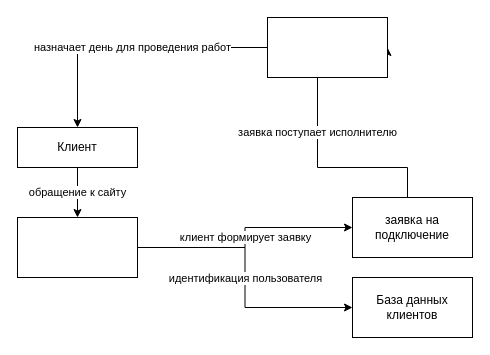
This 490x355 diagram has some shape labels left out. The shapes that lost their labels are listed below. From the top down, each one's box as (x1, y1, x2, y2) in pixels, then its label:
(266, 16, 388, 78): исполнитель
(16, 216, 138, 278): Сайт провайдера с тарифами и личным кабинетом
